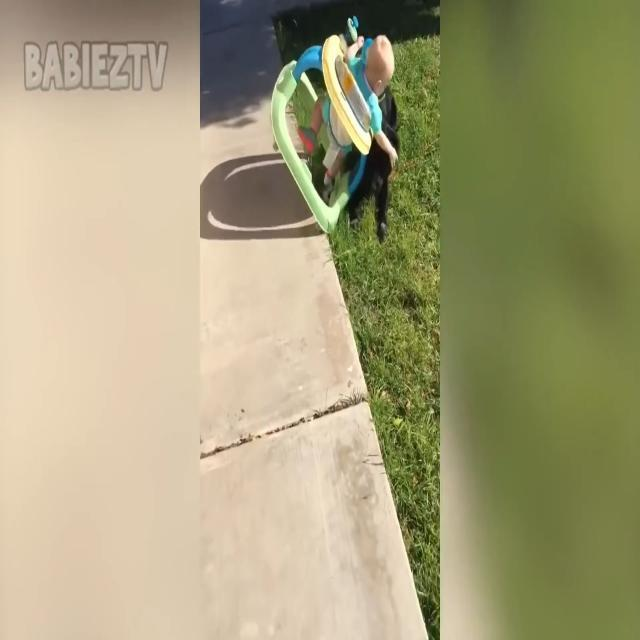child: (295, 37, 399, 190)
